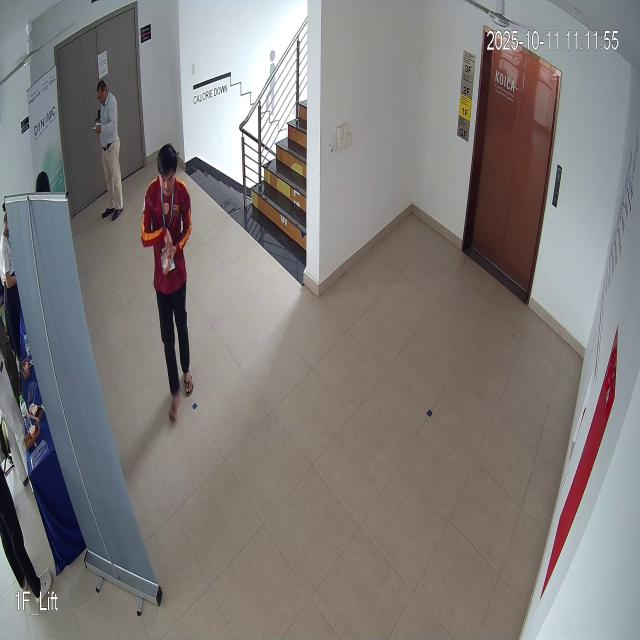face: (157, 135, 182, 211)
